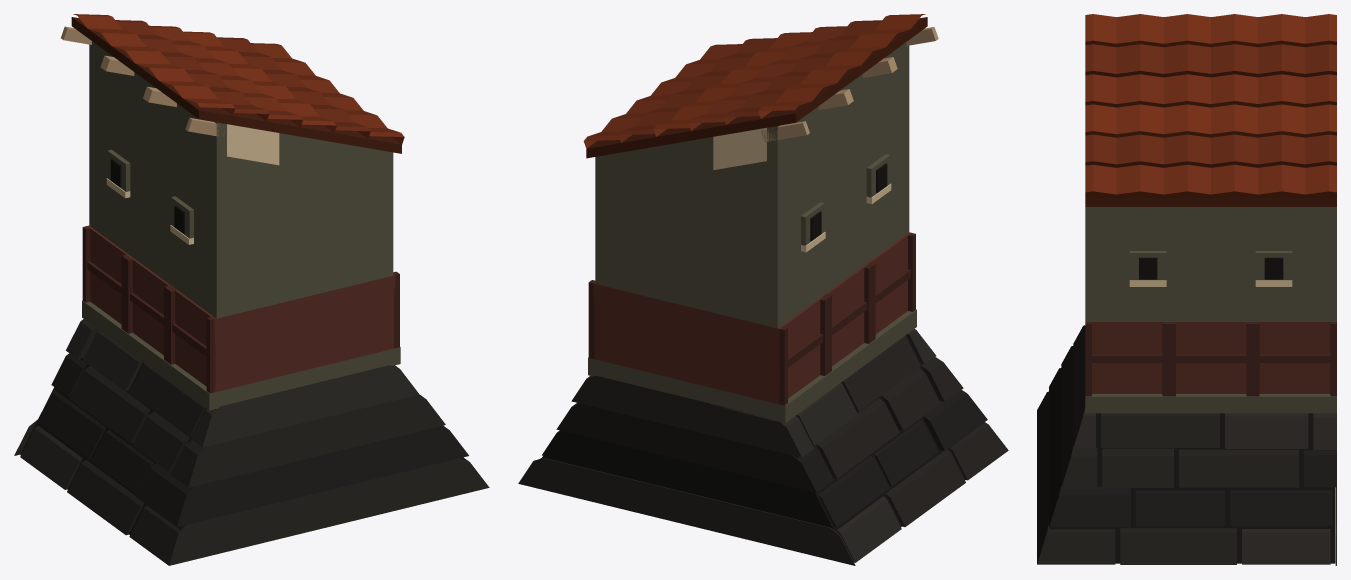
File: VerWall07.glb
3 renders of one model, left to right at view 1: azimuth 30°, elevation 25°; view 2: azimuth 150°, elevation 25°; view 3: azimuth 270°, elevation 25°, orthographic. The views are drawn at different scales.
Visible parts, largest first — view 1: VerWall07_mortar; view 2: VerWall07_mortar; view 3: VerWall07_mortar.
Boxes of the visible parts, left/top/right/bottom form: VerWall07_mortar: left=14, top=14, right=489, bottom=565; VerWall07_mortar: left=518, top=14, right=1008, bottom=565; VerWall07_mortar: left=1037, top=14, right=1336, bottom=565.
Size of the model in its own units: 4.44 by 5.57 by 3.58.
